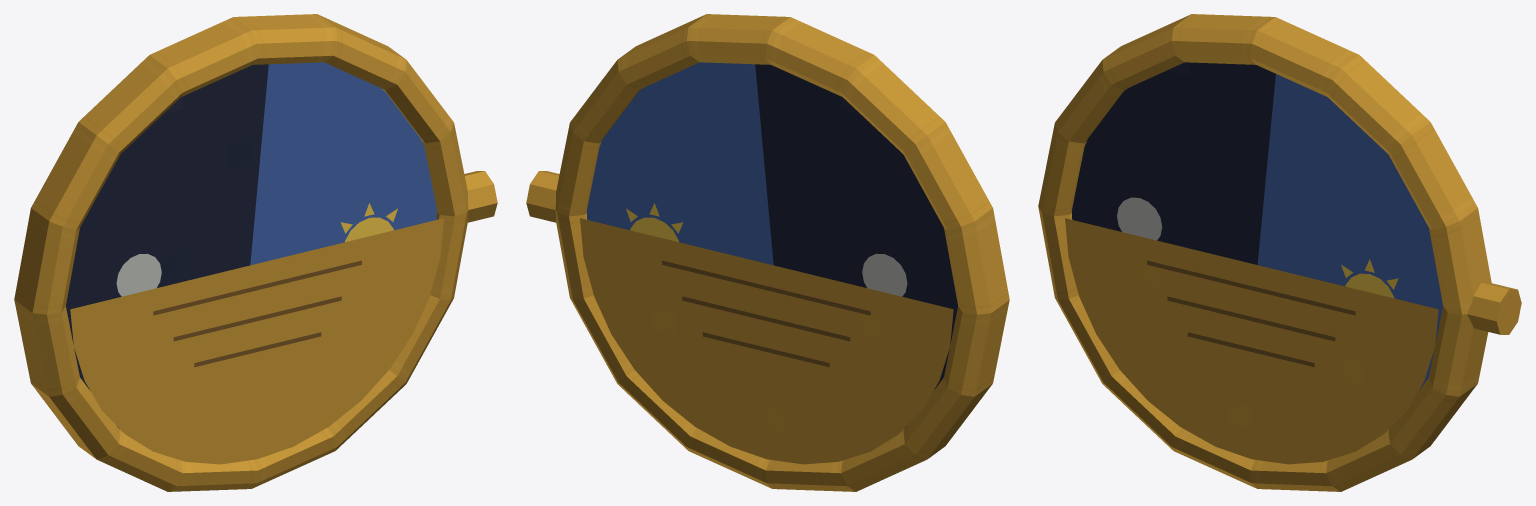
The model's file is clock_17.obj.
The picture shows the model from 3 angles, left to right: view 1: azimuth 30°, elevation 25°; view 2: azimuth 150°, elevation 25°; view 3: azimuth 330°, elevation 25°; orthographic projection.
Size of the model in its own units: 0.6363 by 0.6037 by 0.075.
